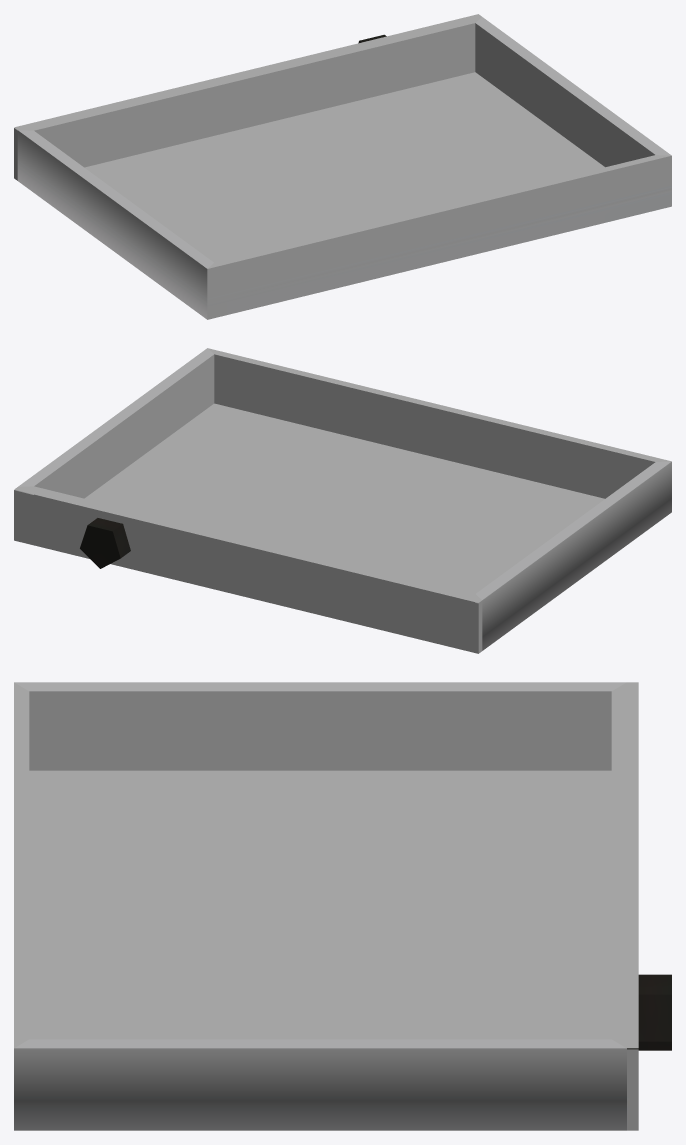
File: PuertaCajon4.fbx
The picture shows the model from 3 angles, top to bottom: view 1: azimuth 30°, elevation 25°; view 2: azimuth 150°, elevation 25°; view 3: azimuth 270°, elevation 25°; orthographic projection. The views are drawn at different scales.
Parts seen in each view (by area): view 1: Cylinder.018; view 2: Cylinder.018; view 3: Cylinder.018.
Boxes of the visible parts, x1,y1,x2,y2 form: Cylinder.018: [14, 14, 671, 319]; Cylinder.018: [14, 348, 671, 653]; Cylinder.018: [14, 682, 671, 1130].
Bounding box in the file's own units: 104 × 10.93 × 79.3.
